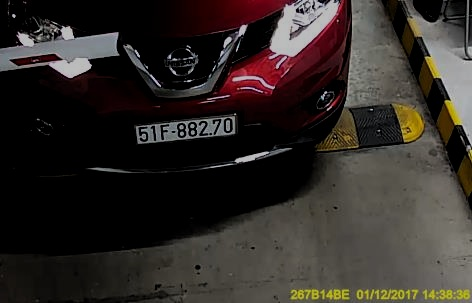plate: (132, 115, 237, 145)
